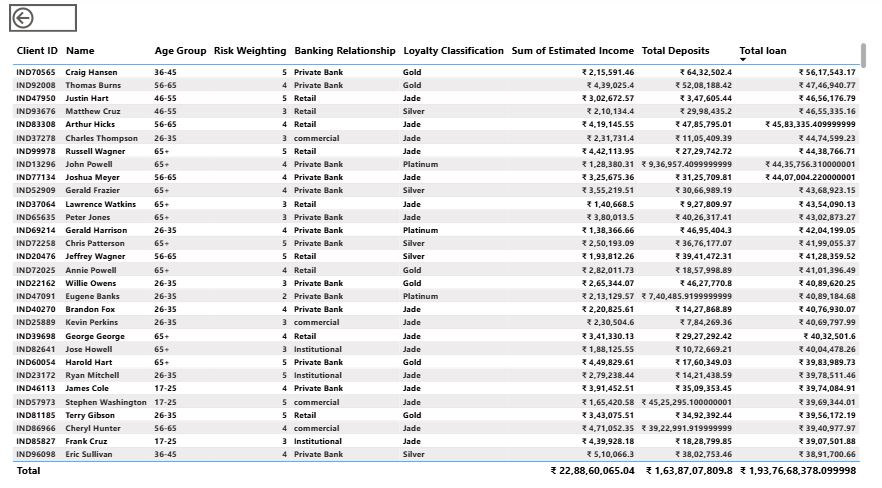

The dashboard page shown, as its layout file describes it:
{"tool":"powerbi","page":{"name":"Drillthrough","canvas":[1280,720],"ordinal":5},"visuals":[{"type":"tableEx","fields":{"Values":["Banking.Client ID","Banking.Name","Banking.Age Groups","Banking.Risk Weighting","Banking Relationship.Banking Relationship","Banking.Loyalty Classification","Sum(Banking.Estimated Income)","All Measure.Total Deposits","All Measure.Total loan"]},"box":[13.8,62.1,1239.7,636.2],"z":0},{"type":"actionButton","box":[0,0,100,40],"z":1000}]}

Visuals, with their boxes on the page's 1280x720 design canvas (x1, y1, x2, y2). These are canvas units, not pixel positions in the 882x488 screenshot, which may show the page scaled, cropped or inside an application window:
tableEx - Banking.Client ID x Banking.Name: (14, 62, 1254, 698)
actionButton: (0, 0, 100, 40)
